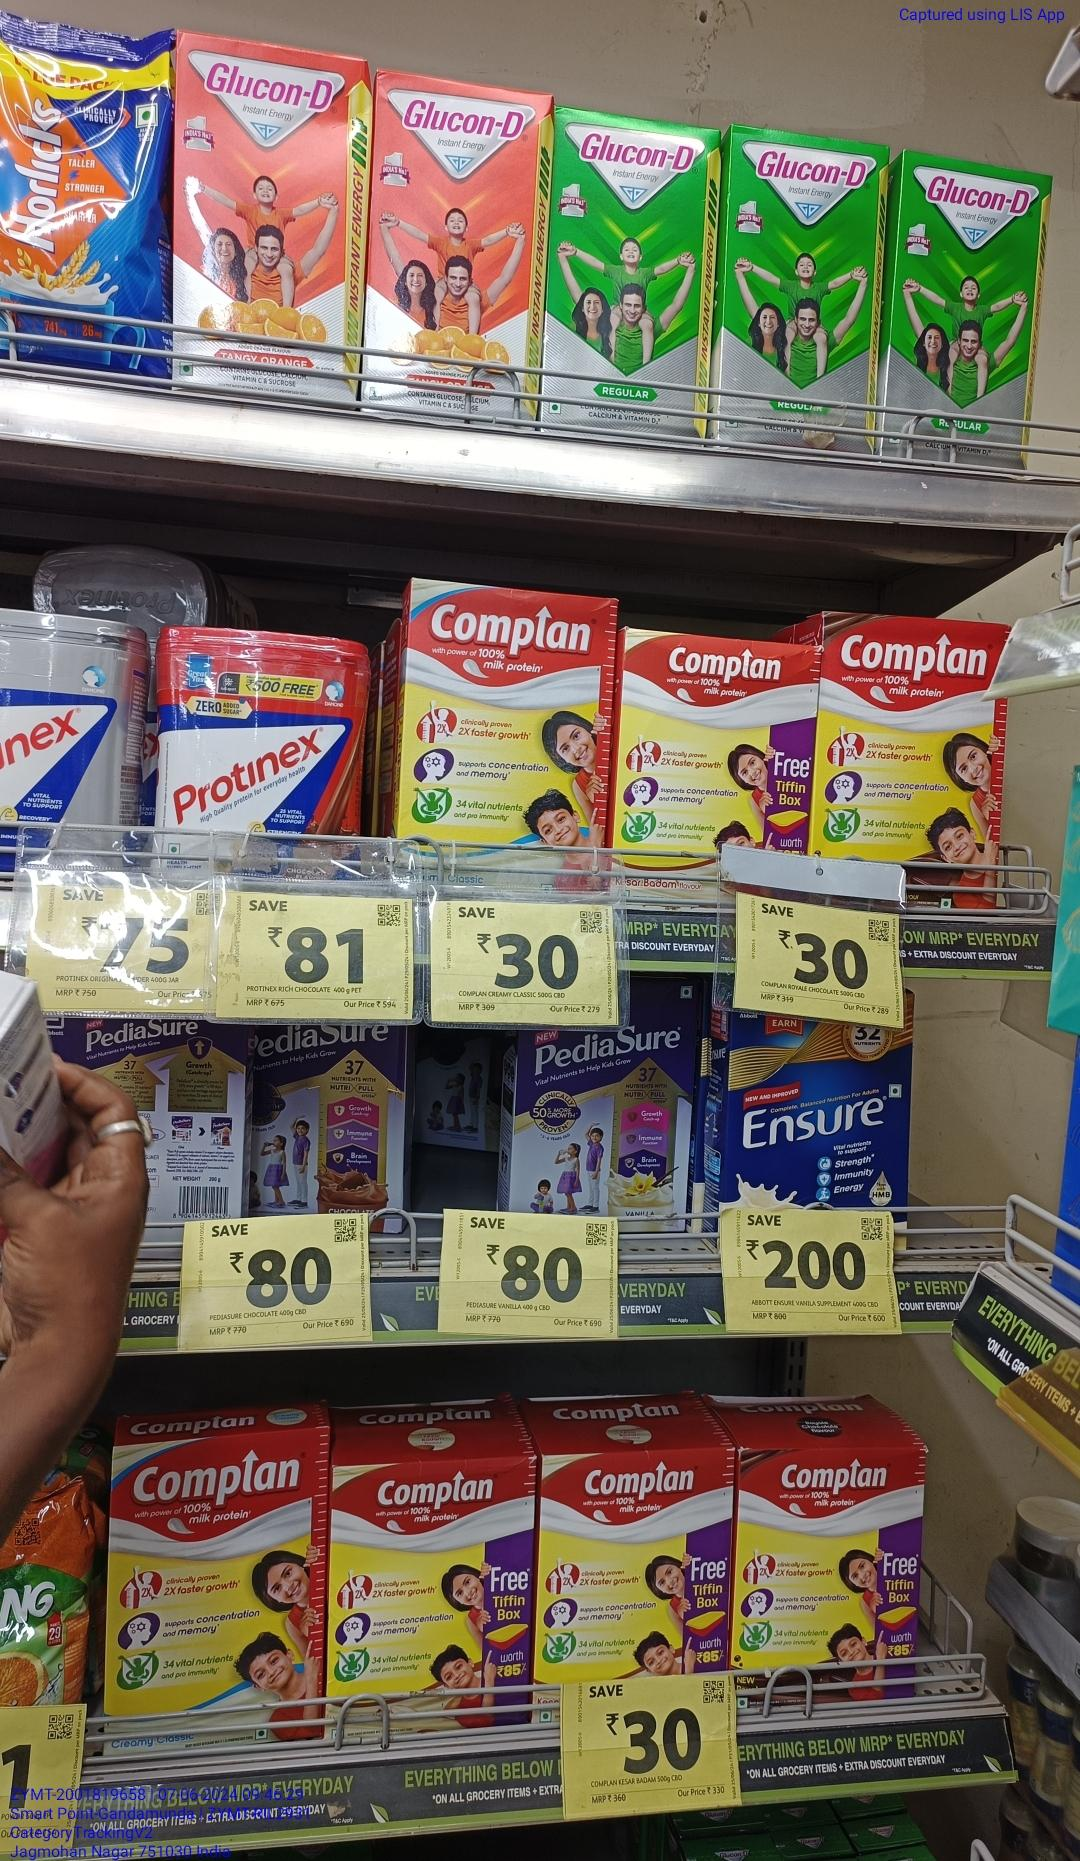COMPLAN_CHOCOLATE_1_KG_PACK: (819, 613, 1007, 898), (739, 1448, 922, 1705)
COMPLAN_CREAMY_CLASSIC_500_G_PACK: (112, 1439, 320, 1771)
COMPLAN_KESAR_BADAM_500_GMS_PACK: (329, 1465, 534, 1736), (622, 631, 813, 897), (540, 1452, 733, 1681)
ENSURE_VANILLA_400_G_PACK: (729, 1013, 906, 1218)
HORLICK_CLASSIC_MALT_750_G_POUCH: (0, 5, 180, 388)
PEDIASURE_CHOCOLATE_500_G_PACK: (252, 1019, 404, 1225)
PEDIASURE_VANILLA_500_G_PACK: (519, 1020, 689, 1235)
PROTINEX_CHOCOLATE_400_G_JAR: (161, 627, 363, 887)
